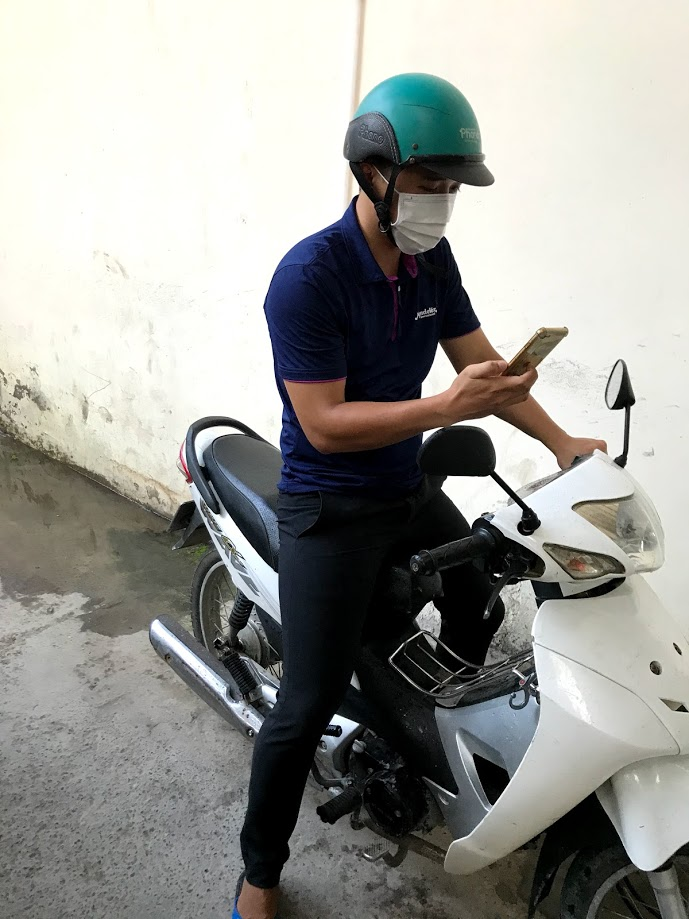dieu khien xe may: (264, 68, 689, 766)
su dung dien thoai: (341, 71, 568, 423)
